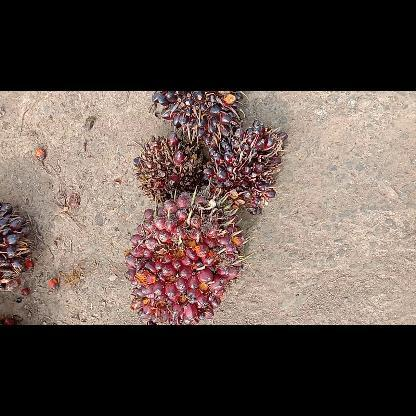TBS abnormal: (206, 119, 286, 213), (150, 90, 246, 142), (129, 133, 200, 203)
TBS masak: (127, 190, 247, 324)
